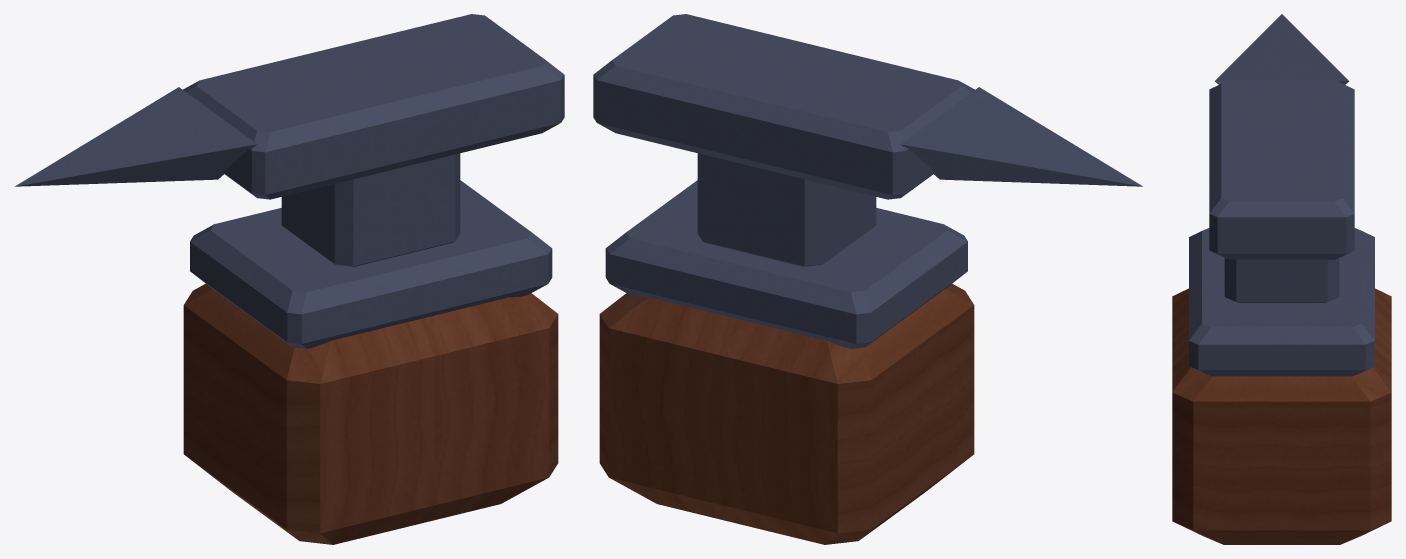
Rendered from Prop_Anvil.obj.
3 views of the same model, side by side, from view 1: azimuth 30°, elevation 25°; view 2: azimuth 150°, elevation 25°; view 3: azimuth 270°, elevation 25° (orthographic). The views are drawn at different scales.
Visible parts, largest first — view 1: Stump, Face, Foot, Waist, Horn; view 2: Stump, Face, Foot, Waist, Horn; view 3: Stump, Face, Foot, Waist, Horn.
Part boxes in pixels (x1=…): Stump: x1=183, y1=283, x2=558, y2=544; Face: x1=183, y1=14, x2=564, y2=199; Foot: x1=190, y1=180, x2=552, y2=348; Waist: x1=281, y1=153, x2=460, y2=266; Horn: x1=15, y1=87, x2=256, y2=186; Stump: x1=599, y1=283, x2=974, y2=544; Face: x1=593, y1=14, x2=974, y2=199; Foot: x1=605, y1=180, x2=967, y2=348; Waist: x1=697, y1=153, x2=876, y2=266; Horn: x1=901, y1=87, x2=1142, y2=186; Stump: x1=1172, y1=288, x2=1391, y2=544; Face: x1=1209, y1=80, x2=1354, y2=259; Foot: x1=1189, y1=228, x2=1374, y2=376; Waist: x1=1224, y1=258, x2=1339, y2=302; Horn: x1=1214, y1=14, x2=1349, y2=84.
Size of the model in its own units: 1.51 by 1.17 by 0.65.
Materials: 2 (2 with a texture image).
